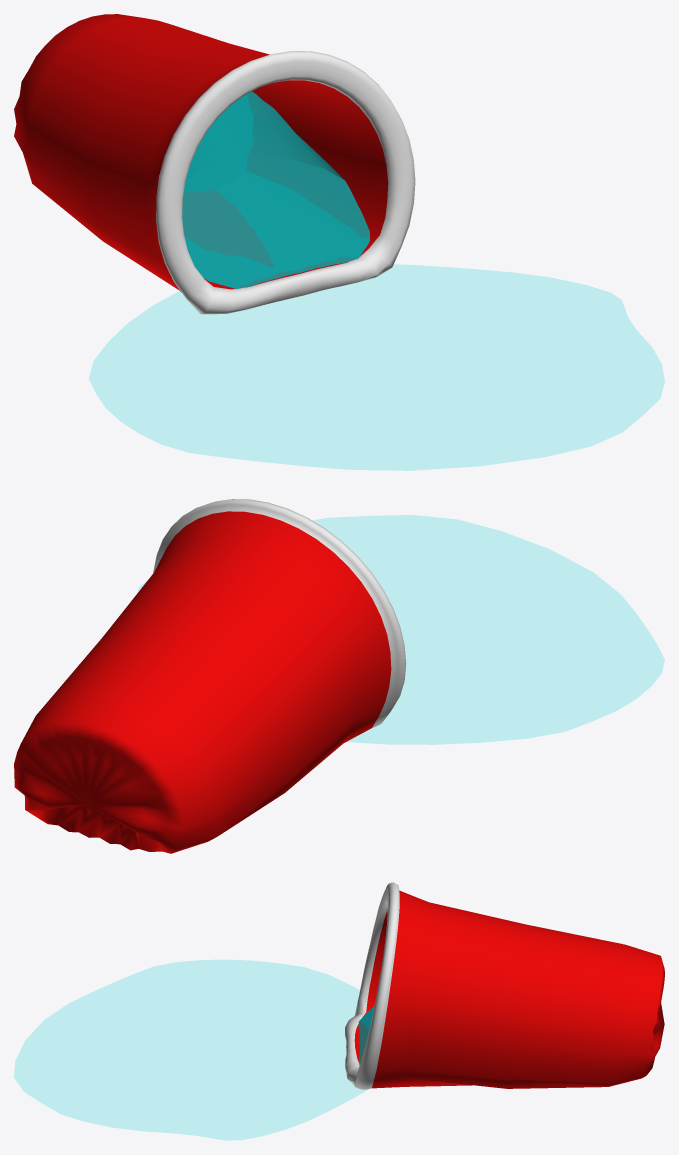
Rendered from Trash Cup.fbx.
3 views of the same model, one above another, from view 1: azimuth 30°, elevation 25°; view 2: azimuth 150°, elevation 25°; view 3: azimuth 270°, elevation 25° (orthographic). The views are drawn at different scales.
Visible parts, largest first — view 1: pPlane1, Cup:pCylinder2, pCylinder1; view 2: Cup:pCylinder2, pPlane1; view 3: Cup:pCylinder2, pPlane1, pCylinder1.
Part boxes in pixels (box(x1,y1,x2,y2)): pPlane1: box(89, 264, 664, 470); Cup:pCylinder2: box(14, 14, 415, 314); pCylinder1: box(182, 91, 369, 289); Cup:pCylinder2: box(14, 499, 406, 853); pPlane1: box(138, 515, 664, 744); Cup:pCylinder2: box(345, 882, 664, 1089); pPlane1: box(14, 960, 367, 1140); pCylinder1: box(358, 1006, 374, 1065).
Bounding box in the file's own units: 5.6 × 2.44 × 8.51.
